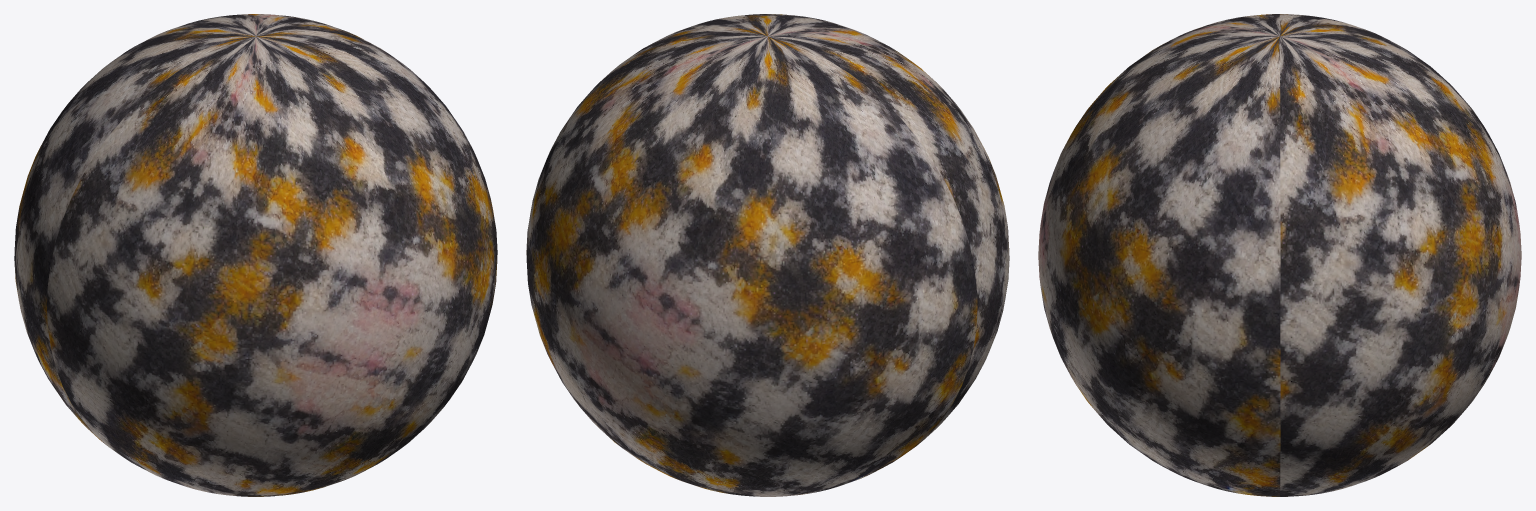
3 renders of one model, left to right at view 1: azimuth 30°, elevation 25°; view 2: azimuth 150°, elevation 25°; view 3: azimuth 270°, elevation 25°, orthographic.
Visible parts, largest first — view 1: Sphere; view 2: Sphere; view 3: Sphere.
Part boxes in pixels (x1,y1,x2,y2): Sphere: (14,14,497,496); Sphere: (526,14,1009,496); Sphere: (1038,14,1521,496).
Size of the model in its own units: 1.7 by 1.7 by 1.7.
1 material, 1 textured.
